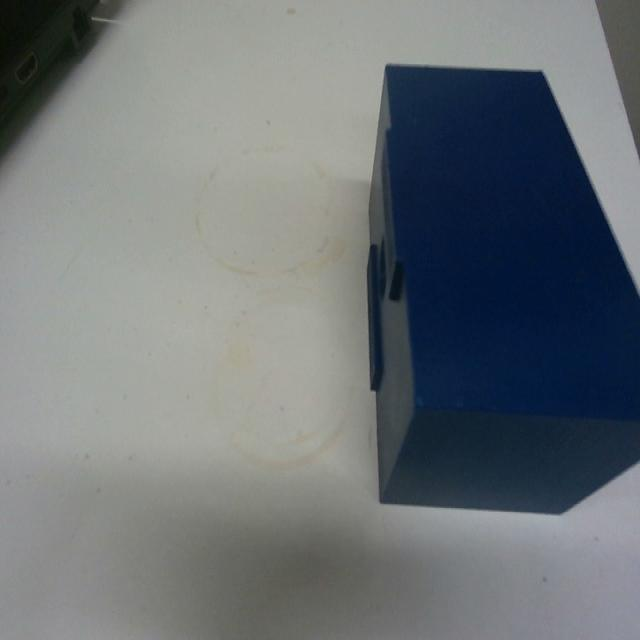Blue Cuboid: (363, 59, 639, 516)
